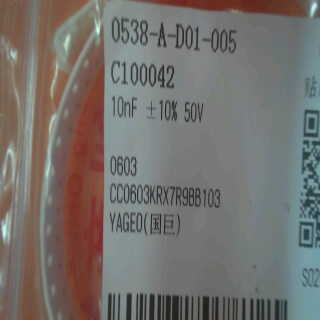10nF: (103, 92, 144, 121)
